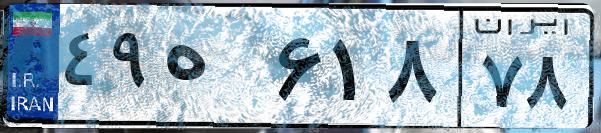1: (330, 28, 385, 110)
4: (57, 26, 110, 100)
6: (270, 28, 330, 110)
7: (475, 38, 525, 113)
8: (385, 28, 445, 110), (525, 38, 570, 115)
9: (110, 28, 158, 98)
ه: (158, 20, 270, 120)
